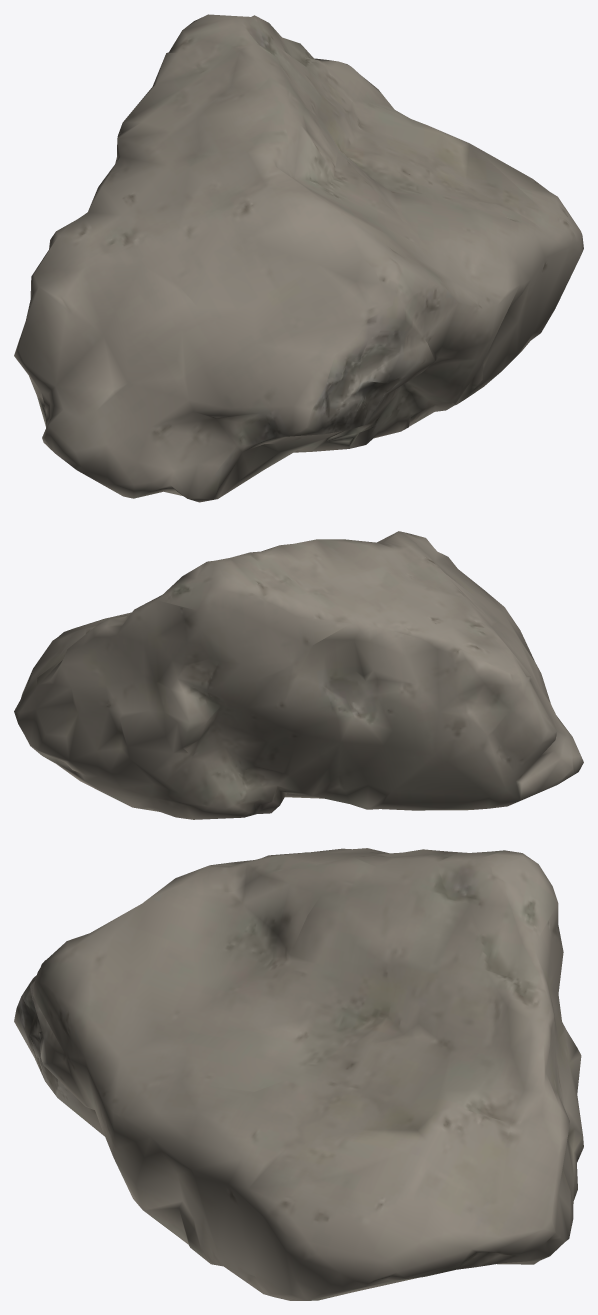
File: moon_rock_03.glb
3 views of the same model, one above another, from view 1: azimuth 30°, elevation 25°; view 2: azimuth 150°, elevation 25°; view 3: azimuth 270°, elevation 25° (orthographic). The views are drawn at different scales.
Parts seen in each view (by area): view 1: moon_rock_03_LOD0; view 2: moon_rock_03_LOD0; view 3: moon_rock_03_LOD0.
Boxes of the visible parts, <box> form: moon_rock_03_LOD0: <box>14,14,583,502</box>; moon_rock_03_LOD0: <box>14,531,583,819</box>; moon_rock_03_LOD0: <box>14,848,583,1300</box>.
Size of the model in its own units: 0.112 by 0.0582 by 0.0861.
Materials: 1 (1 with a texture image).
